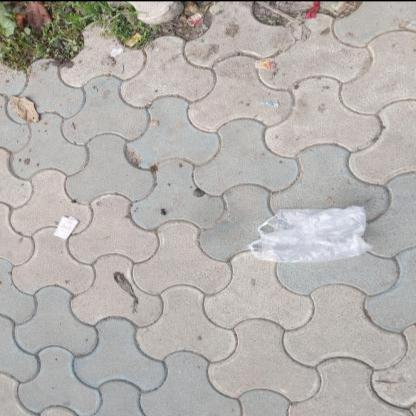Carton: (254, 56, 276, 68), (110, 46, 124, 56)
Paper: (54, 215, 79, 238)
Plastic bag - wrapper: (246, 204, 374, 262), (125, 31, 142, 46), (186, 12, 204, 26)
Unlabeled litter: (259, 99, 279, 106)
